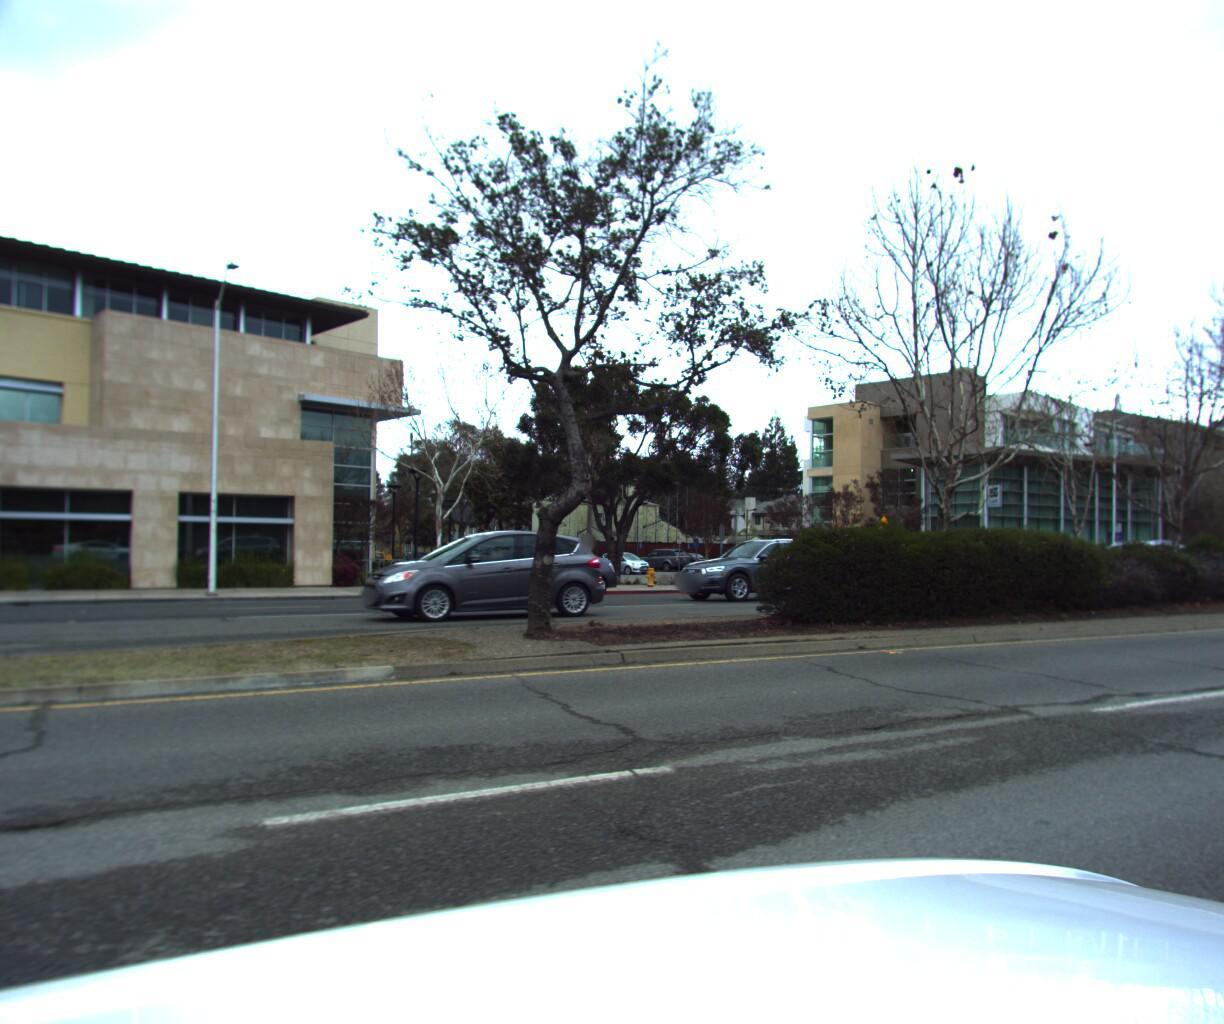car: (350, 528, 616, 624), (669, 536, 841, 602), (475, 545, 620, 599)
